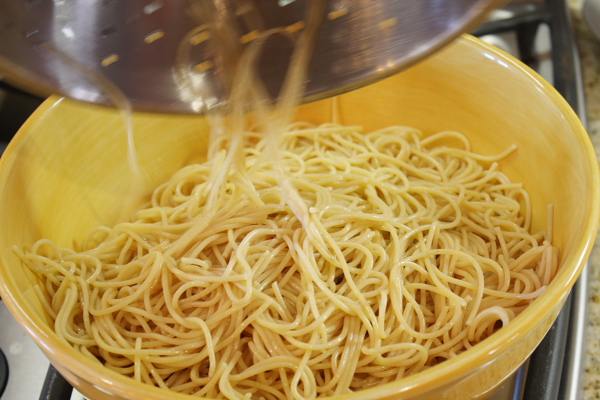plain spaghetti: (86, 133, 519, 395)
